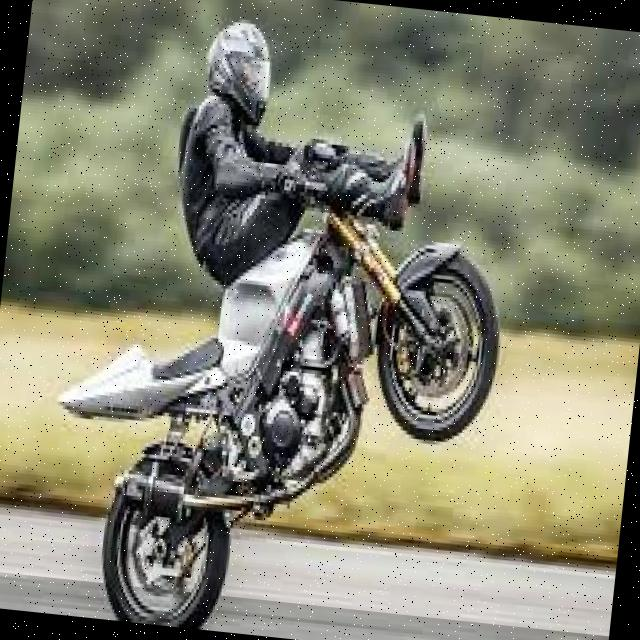Wheeling: (61, 15, 530, 640)
